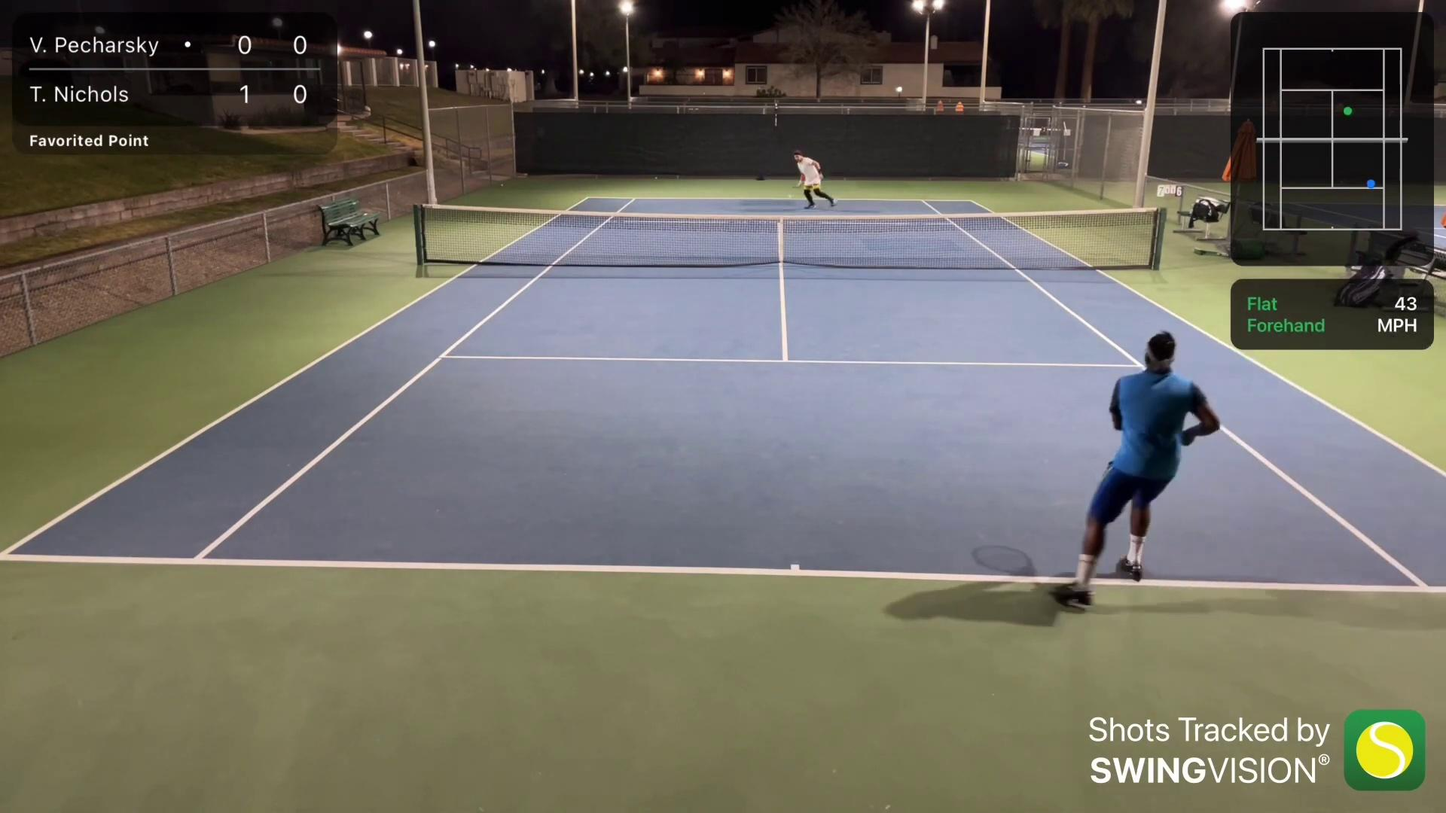ball: (499, 181, 506, 188), (653, 174, 660, 180), (787, 193, 793, 198)
